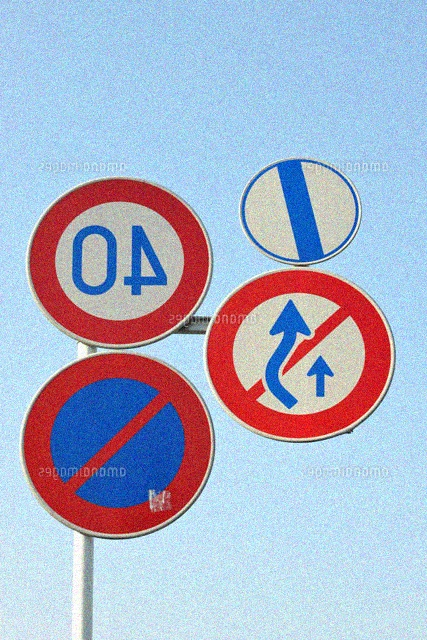Prohibition_sign: (7, 339, 230, 575), (188, 264, 417, 462)
